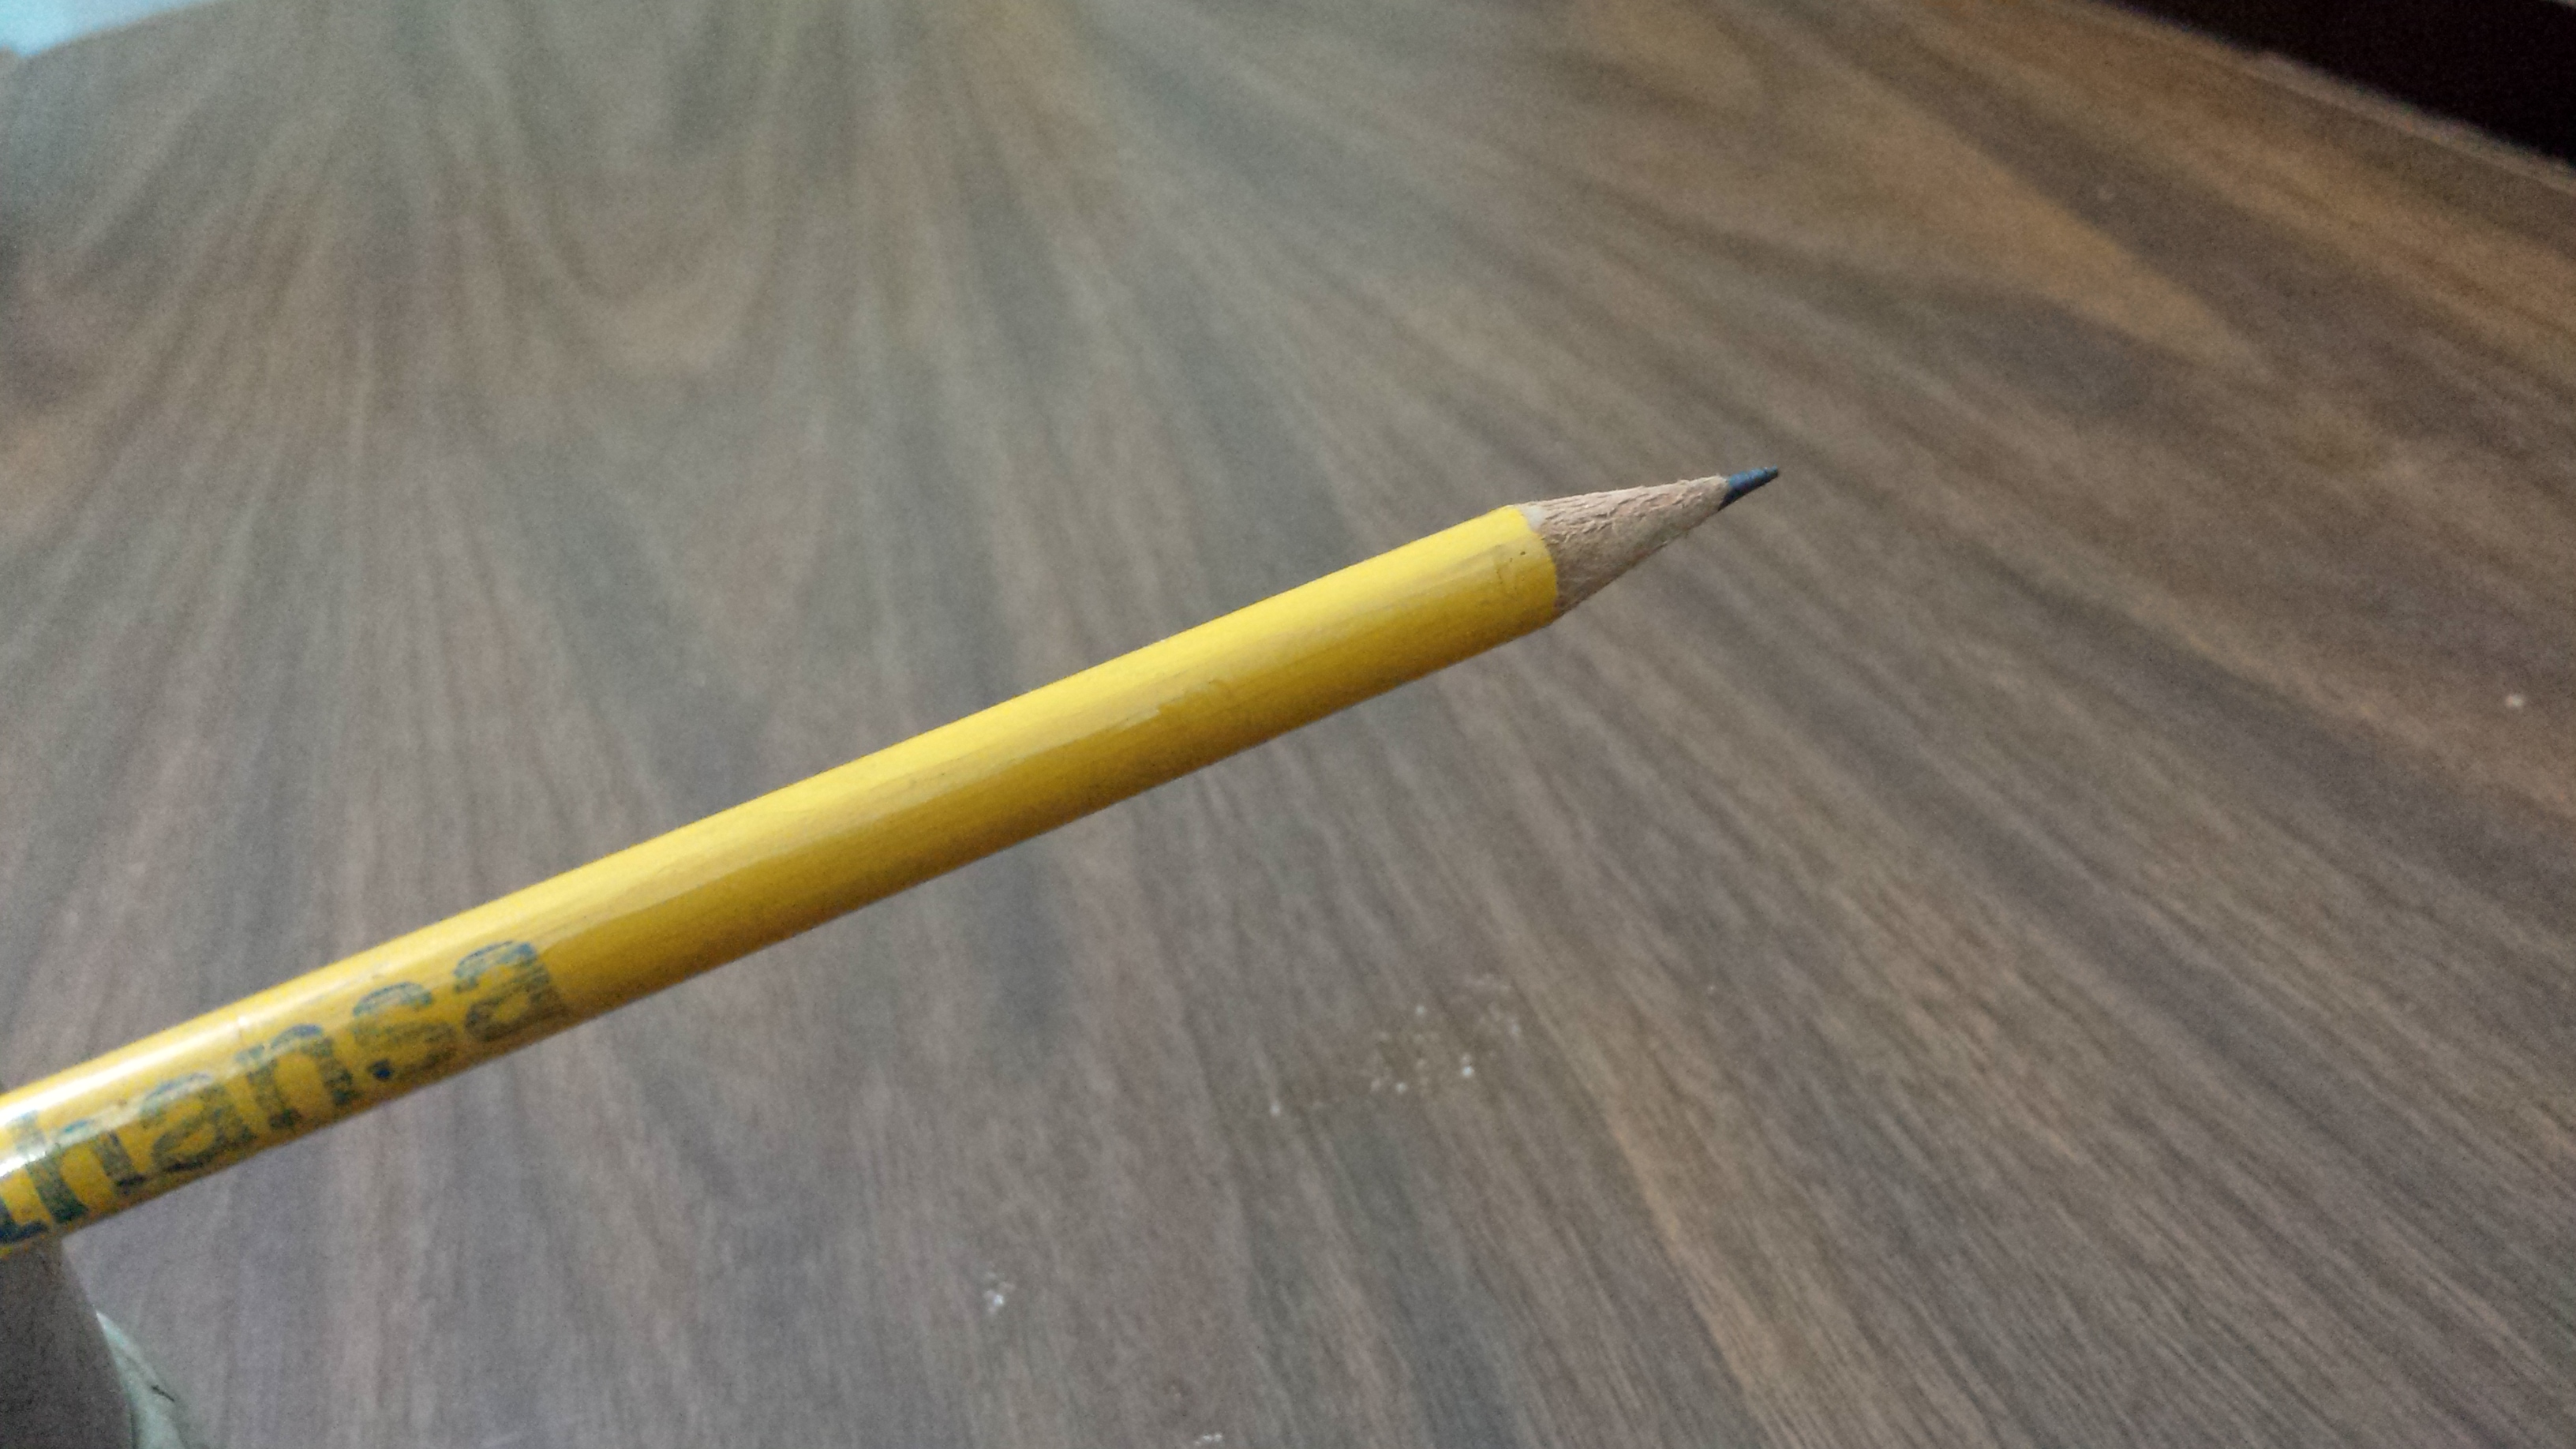pen_tip: (1392, 366, 1829, 697)
